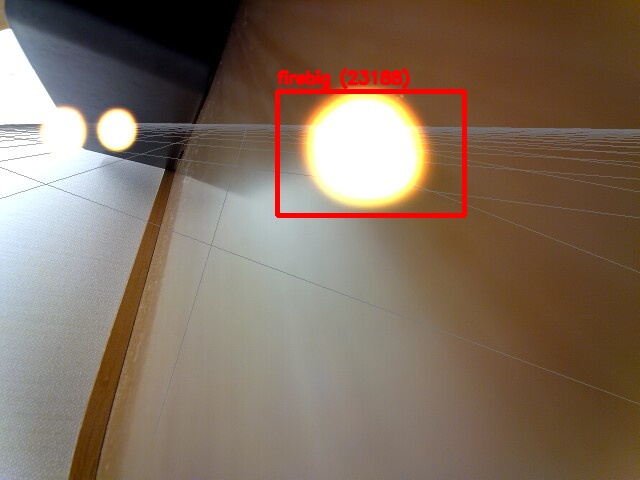firebig: (277, 91, 464, 215)
